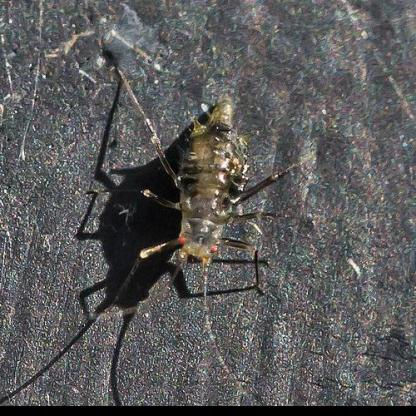aphid: (117, 64, 291, 332)
